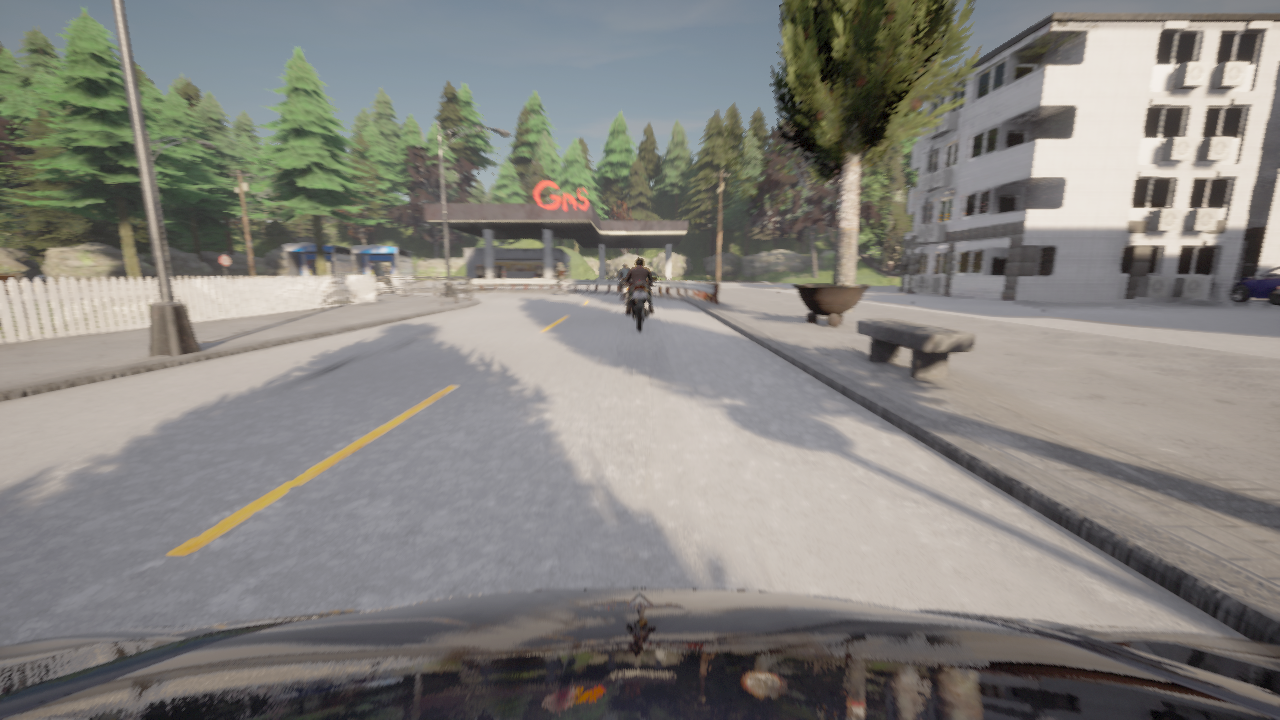cyclist: (0, 588, 1279, 719), (622, 278, 656, 331), (1231, 267, 1279, 301), (375, 272, 404, 295), (614, 272, 629, 305), (532, 269, 567, 278), (550, 279, 569, 295), (1268, 286, 1279, 305), (1277, 286, 1279, 288)
